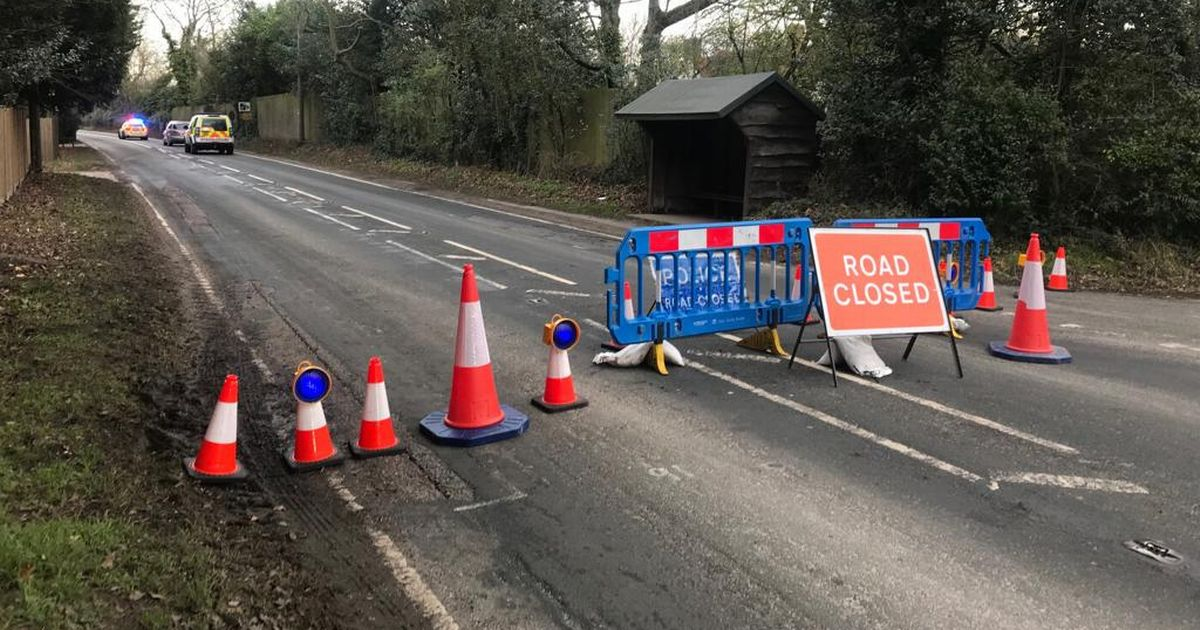cone: (418, 265, 532, 449), (989, 232, 1075, 366), (183, 372, 260, 490), (278, 358, 347, 471), (349, 357, 409, 459), (532, 312, 588, 411), (968, 249, 1006, 313), (1044, 245, 1074, 292)
